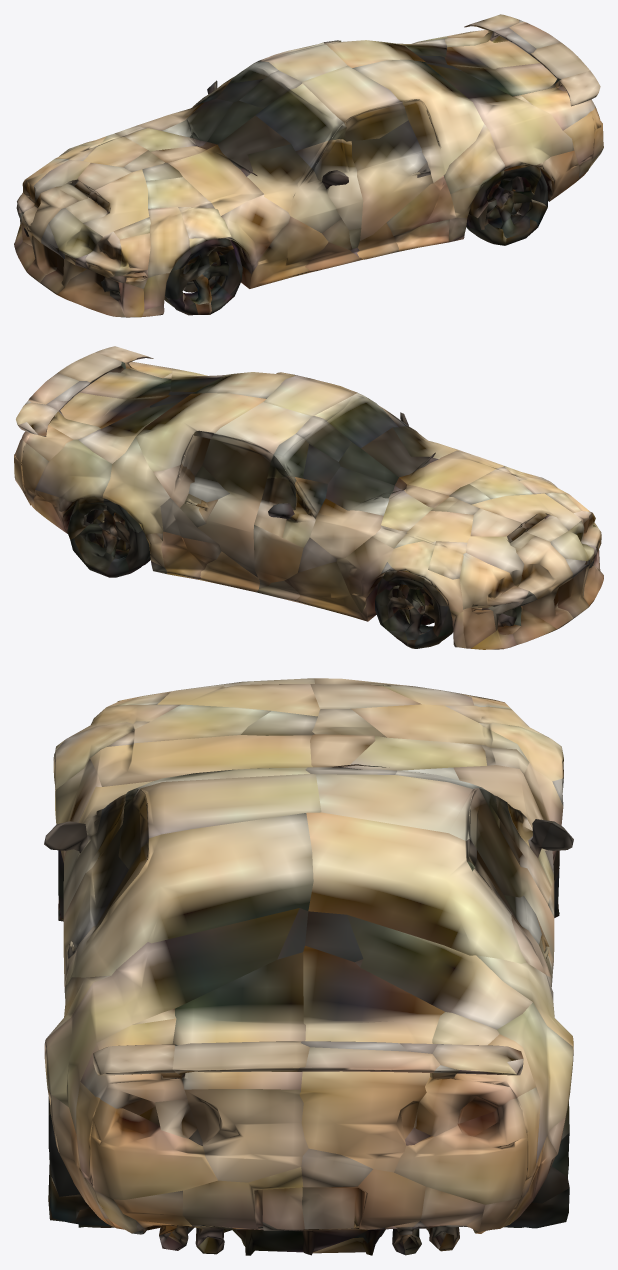
Rendered from car_sports_light_q1.glb.
3 renders of one model, top to bottom at view 1: azimuth 30°, elevation 25°; view 2: azimuth 150°, elevation 25°; view 3: azimuth 270°, elevation 25°, orthographic. The views are drawn at different scales.
Bounding box in the file's own units: 4.37 × 1.25 × 1.92.
Materials: 1 (1 with a texture image).
